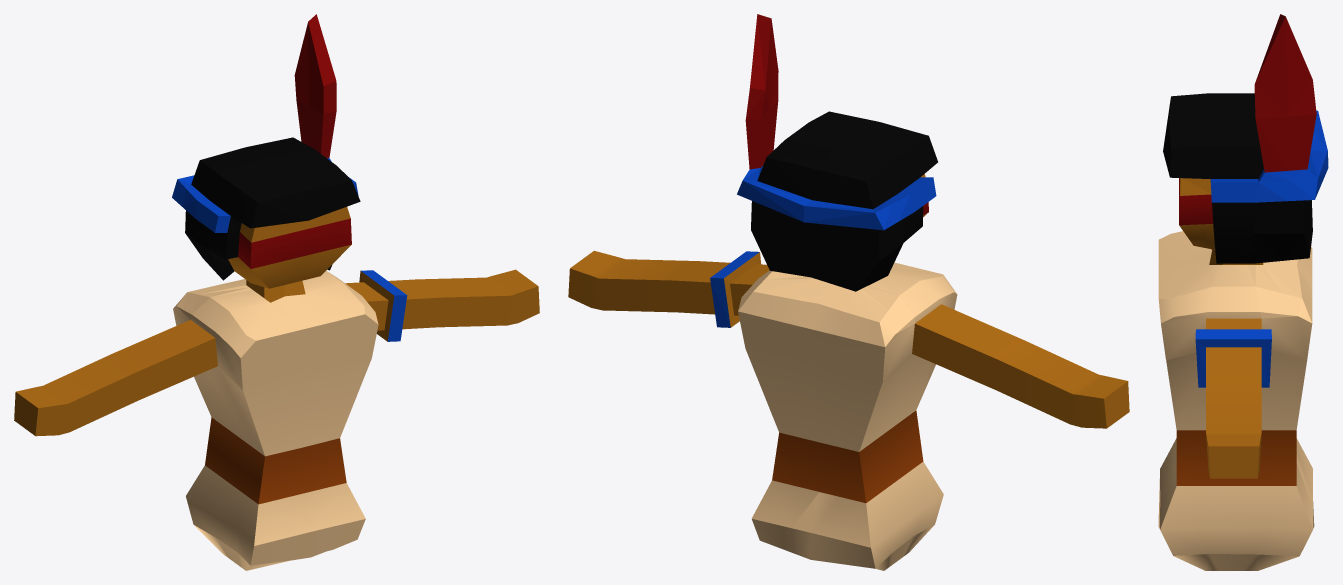
File: CHAR_MaleC.FBX
The picture shows the model from 3 angles, left to right: view 1: azimuth 30°, elevation 25°; view 2: azimuth 150°, elevation 25°; view 3: azimuth 270°, elevation 25°; orthographic projection. The views are drawn at different scales.
Visible parts, largest first — view 1: CHAR_Indien; view 2: CHAR_Indien; view 3: CHAR_Indien.
Boxes of the visible parts, <box> form: CHAR_Indien: <box>14,14,539,570</box>; CHAR_Indien: <box>568,14,1129,570</box>; CHAR_Indien: <box>1158,14,1328,570</box>.
Bounding box in the file's own units: 41.25 × 39.45 × 10.76.
